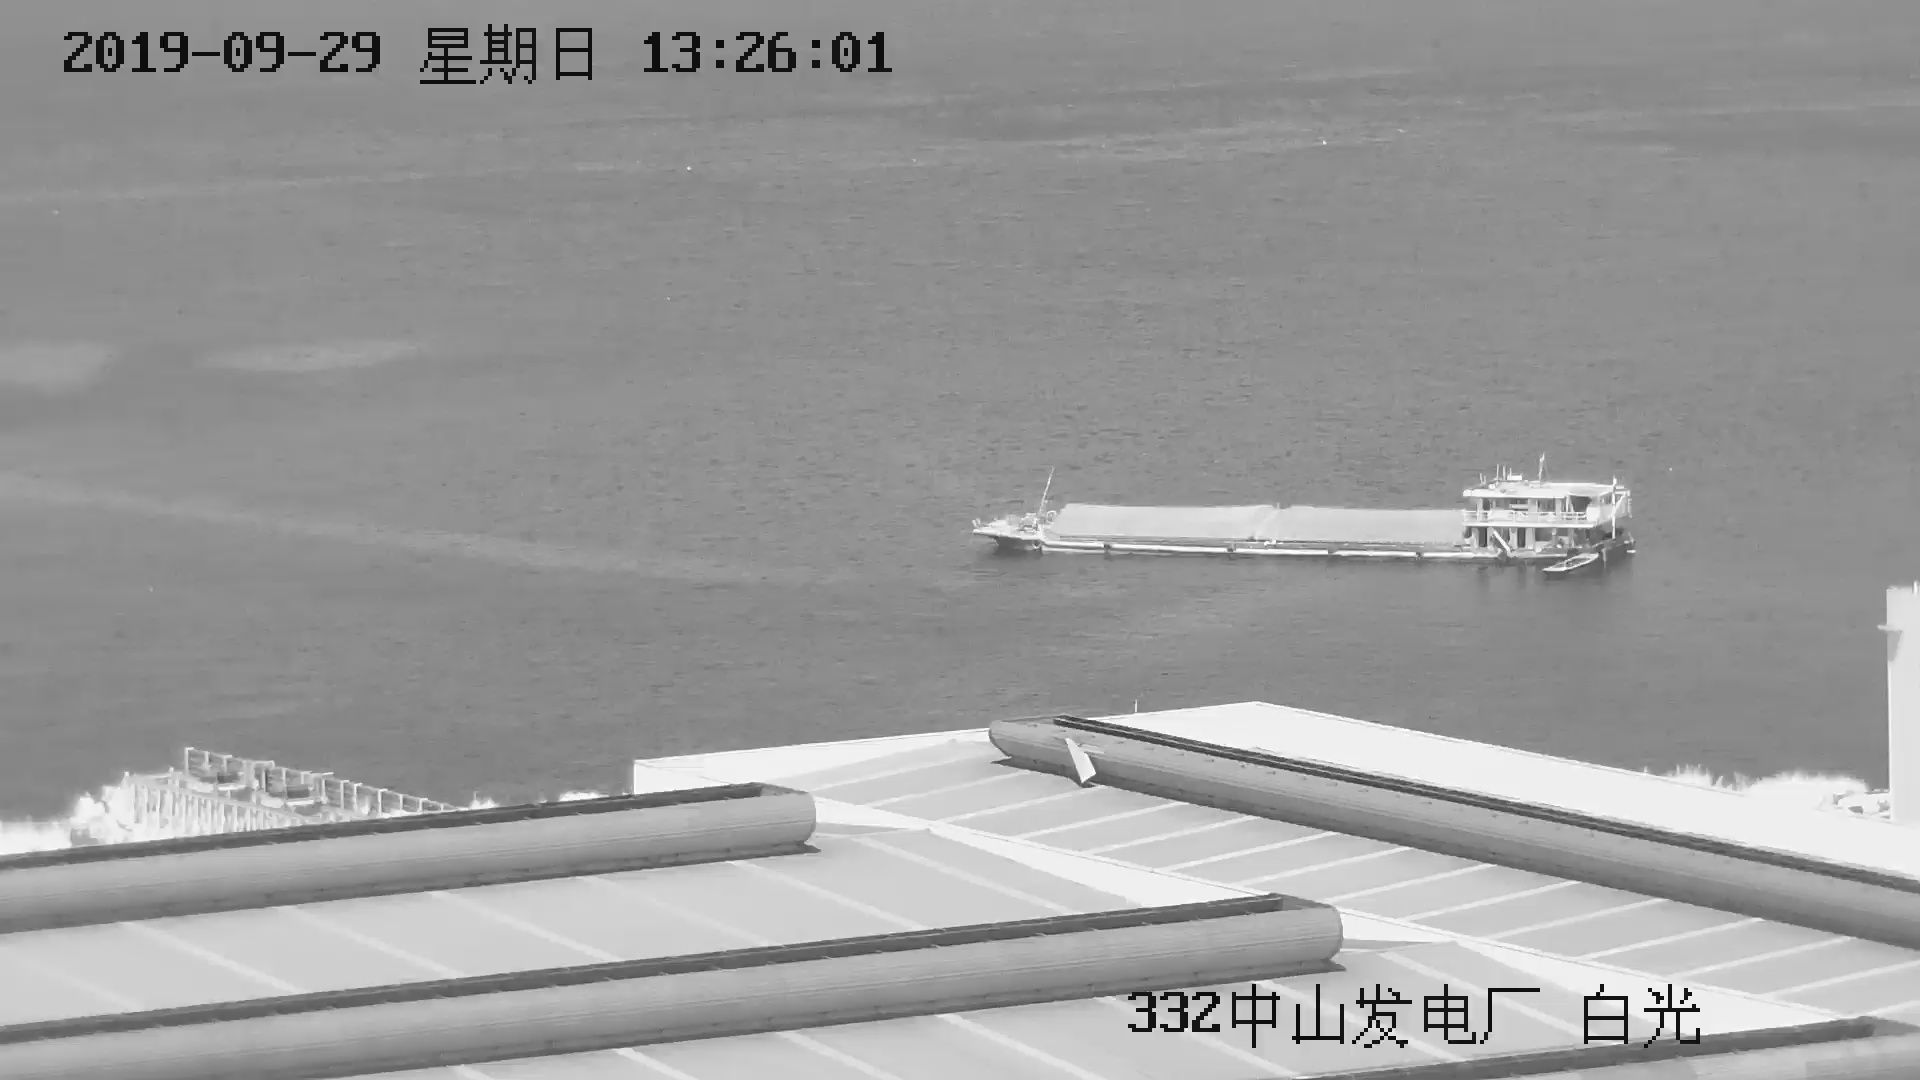ship: (968, 454, 1640, 585)
